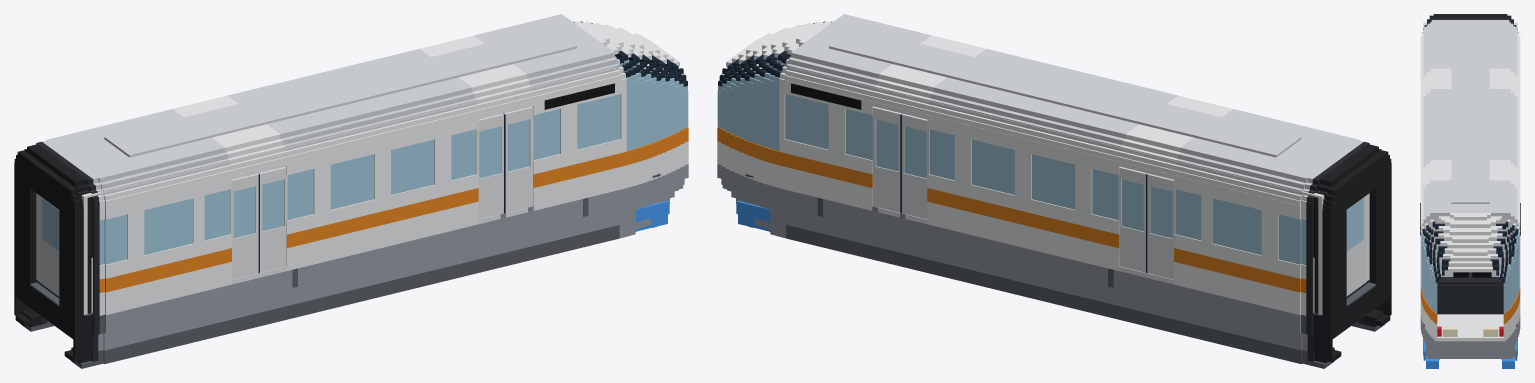
The model's file is linimo_front.obj.
3 views of the same model, side by side, from view 1: azimuth 30°, elevation 25°; view 2: azimuth 150°, elevation 25°; view 3: azimuth 270°, elevation 25° (orthographic). The views are drawn at different scales.
Parts seen in each view (by area): view 1: SHELL, SHELL_roof, SHELL_diaphragm, EXTERNAL_DOOR_10_CG_DR2_TOGGLE_TL_0.59_X, EXTERNAL_DOOR_3_CG_DR1_TOGGLE_TL_-0.59_X, EXTERNAL_DOOR_9_CG_DR2_TOGGLE_TL_-0.59_X, EXTERNAL_DOOR_4_CG_DR1_TOGGLE_TL_0.59_X, CONNECTING_DOOR_1_CG_CR_TOGGLE_TL_0.98_Z, SHELL_ceiling, SHELL_end, SHELL_sign, BOGEY_FRONT; view 2: SHELL, SHELL_roof, SHELL_diaphragm, EXTERNAL_DOOR_13_CG_DL2_TOGGLE_TL_0.59_X, EXTERNAL_DOOR_6_CG_DL1_TOGGLE_TL_-0.59_X, EXTERNAL_DOOR_12_CG_DL2_TOGGLE_TL_-0.59_X, EXTERNAL_DOOR_7_CG_DL1_TOGGLE_TL_0.59_X, CONNECTING_DOOR_1_CG_CR_TOGGLE_TL_0.98_Z, SHELL_ceiling, SHELL_end, SHELL_sign, BOGEY_FRONT; view 3: SHELL, SHELL_roof, SHELL_desk, SHELL_cabwall, SHELL_ceiling, BOGEY_FRONT, HEADLIGHT_1, SHELL_lights.
Part boxes in pixels (left/top/right/bottom): SHELL: left=21, top=14, right=688, bottom=368; SHELL_roof: left=104, top=27, right=576, bottom=157; SHELL_diaphragm: left=14, top=150, right=81, bottom=362; EXTERNAL_DOOR_10_CG_DR2_TOGGLE_TL_0.59_X: left=504, top=106, right=533, bottom=212; EXTERNAL_DOOR_3_CG_DR1_TOGGLE_TL_-0.59_X: left=230, top=173, right=259, bottom=279; EXTERNAL_DOOR_9_CG_DR2_TOGGLE_TL_-0.59_X: left=476, top=113, right=505, bottom=219; EXTERNAL_DOOR_4_CG_DR1_TOGGLE_TL_0.59_X: left=258, top=167, right=287, bottom=272; CONNECTING_DOOR_1_CG_CR_TOGGLE_TL_0.98_Z: left=39, top=196, right=59, bottom=296; SHELL_ceiling: left=85, top=66, right=612, bottom=197; SHELL_end: left=36, top=192, right=87, bottom=315; SHELL_sign: left=544, top=83, right=614, bottom=109; BOGEY_FRONT: left=635, top=200, right=669, bottom=231; SHELL: left=717, top=14, right=1384, bottom=368; SHELL_roof: left=829, top=27, right=1301, bottom=157; SHELL_diaphragm: left=1324, top=150, right=1391, bottom=362; EXTERNAL_DOOR_13_CG_DL2_TOGGLE_TL_0.59_X: left=872, top=106, right=902, bottom=212; EXTERNAL_DOOR_6_CG_DL1_TOGGLE_TL_-0.59_X: left=1146, top=173, right=1175, bottom=279; EXTERNAL_DOOR_12_CG_DL2_TOGGLE_TL_-0.59_X: left=900, top=113, right=929, bottom=219; EXTERNAL_DOOR_7_CG_DL1_TOGGLE_TL_0.59_X: left=1118, top=167, right=1147, bottom=272; CONNECTING_DOOR_1_CG_CR_TOGGLE_TL_0.98_Z: left=1346, top=196, right=1366, bottom=296; SHELL_ceiling: left=793, top=66, right=1320, bottom=197; SHELL_end: left=1318, top=192, right=1369, bottom=315; SHELL_sign: left=791, top=83, right=861, bottom=109; BOGEY_FRONT: left=736, top=200, right=770, bottom=231; SHELL: left=1420, top=14, right=1520, bottom=360; SHELL_roof: left=1451, top=36, right=1489, bottom=203; SHELL_desk: left=1435, top=272, right=1505, bottom=314; SHELL_cabwall: left=1423, top=218, right=1517, bottom=276; SHELL_ceiling: left=1423, top=23, right=1517, bottom=217; BOGEY_FRONT: left=1423, top=339, right=1517, bottom=368; HEADLIGHT_1: left=1442, top=327, right=1498, bottom=336; SHELL_lights: left=1437, top=326, right=1503, bottom=336.
Size of the model in its own units: 14.16 by 4.02 by 2.62.
1 material, 1 textured.
